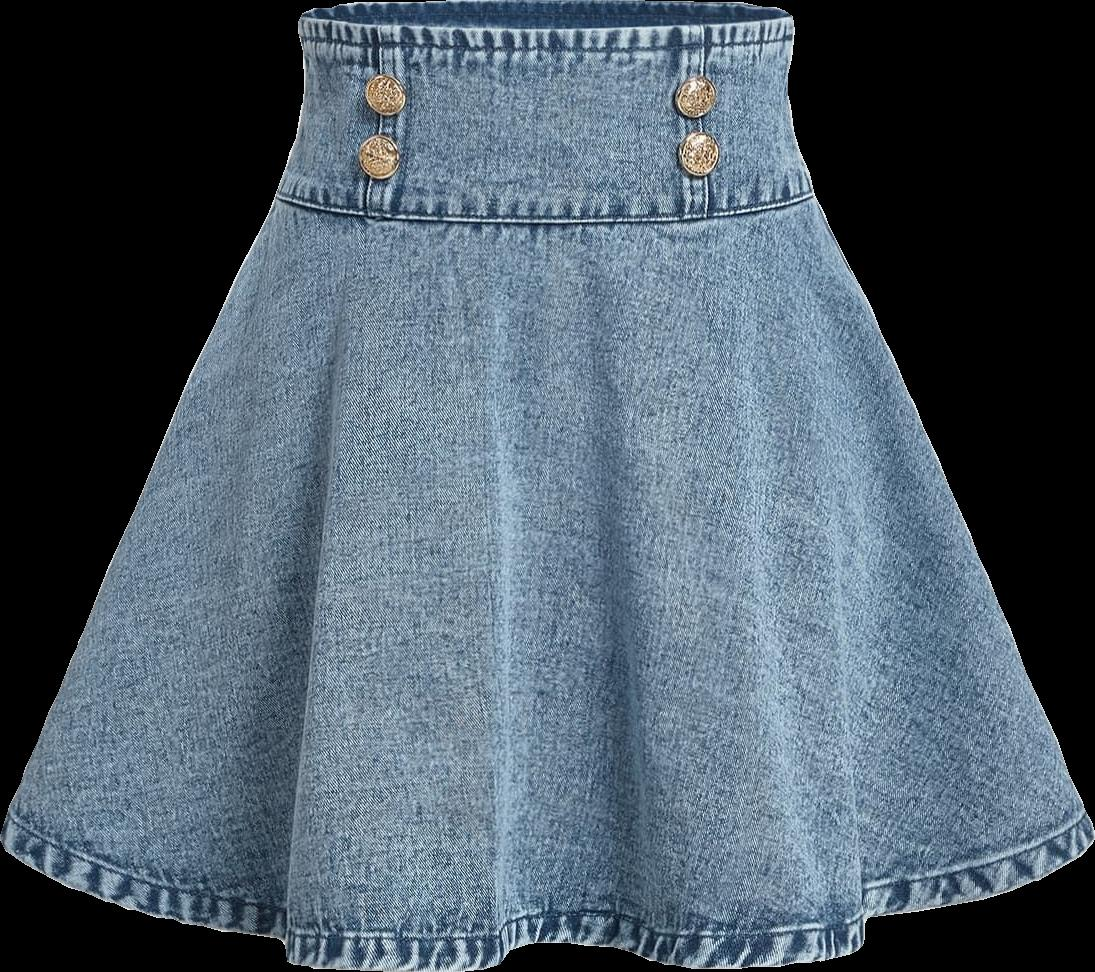Hemline: (0, 825, 1094, 971)
Waistline: (269, 182, 821, 225), (290, 12, 799, 43)
